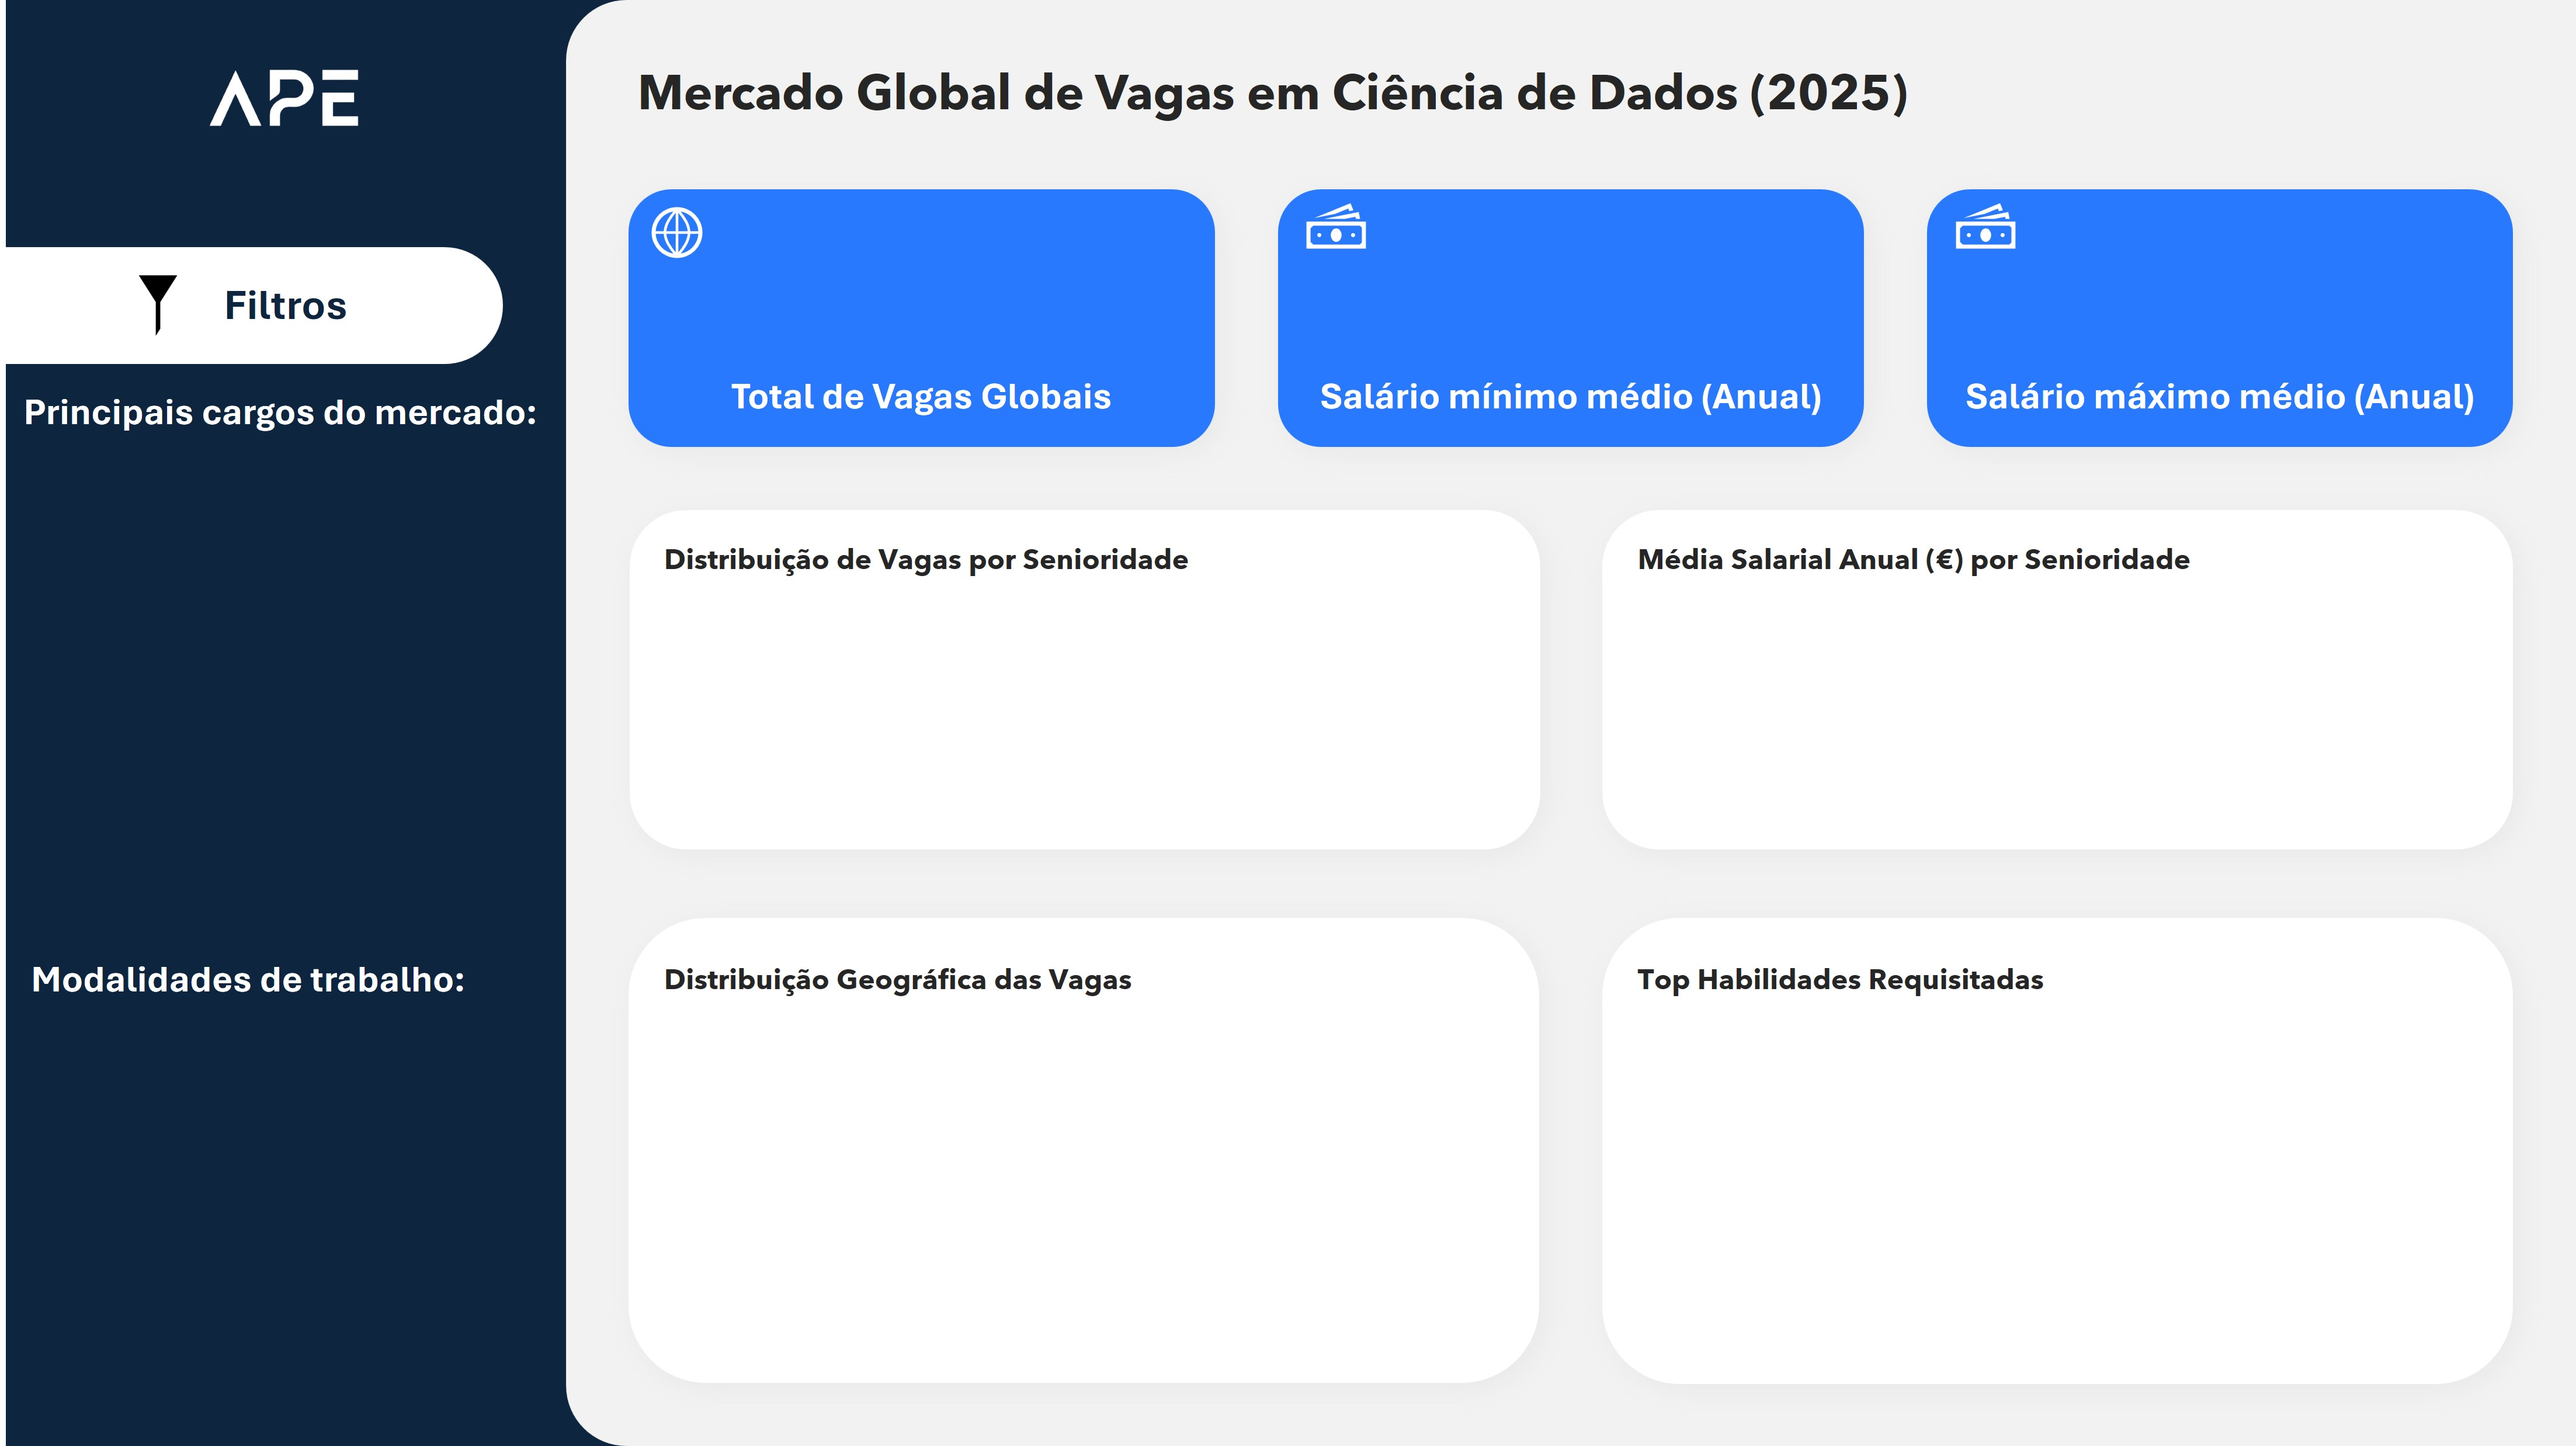

This screenshot's page, from the dashboard's own definition file:
{"tool":"powerbi","page":{"name":"Página 1","canvas":[1280,720],"ordinal":0},"visuals":[{"type":"areaChart","title":"Distribuição de Vagas por Senioridade","fields":{"Category":["dados_para_powerbi.seniority_level"],"Y":["CountNonNull(dados_para_powerbi.seniority_level)"]},"box":[323.3,275.6,436.7,153.3],"z":0},{"type":"clusteredBarChart","title":"Média Salarial Anual (€) por Senioridade","fields":{"Category":["dados_para_powerbi.seniority_level"],"Y":["Avg(dados_para_powerbi.salario_avg)"]},"box":[799,267,441,162],"z":1000},{"type":"map","title":"Distribuição Geográfica das Vagas","fields":{"Category":["dados_para_powerbi.pais","dados_para_powerbi.estado"],"Size":["CountNonNull(dados_para_powerbi.job_title)"]},"box":[330,500,417.1,170],"z":2000},{"type":"donutChart","title":"Top Habilidades Requisitadas","fields":{"Y":["dados_para_powerbi.Total PowerBI","dados_para_powerbi.Total Python","dados_para_powerbi.Total Java","dados_para_powerbi.Total Deep Learning","dados_para_powerbi.Total AWS","dados_para_powerbi.Total R","dados_para_powerbi.Total SQL","dados_para_powerbi.Total Tableau","dados_para_powerbi.Total Tensor Flow","dados_para_powerbi.Total Machine Learning","dados_para_powerbi.Total Git"]},"box":[837.1,480,392.9,211.4],"z":3000},{"type":"listSlicer","fields":{"Values":["dados_para_powerbi.job_title"]},"box":[11,221.6,257.4,251.9],"z":4000},{"type":"listSlicer","fields":{"Values":["dados_para_powerbi.status"]},"box":[49.5,499.6,181.7,200.9],"z":5000},{"type":"card","fields":{"Values":["Avg(dados_para_powerbi.salario_max)"]},"box":[985,106.7,231.7,78.3],"z":7000},{"type":"card","fields":{"Values":["Avg(dados_para_powerbi.salario_min)"]},"box":[640,106.7,281.7,78.3],"z":8000},{"type":"card","fields":{"Values":["dados_para_powerbi.Total de Vagas"]},"box":[385,106.7,141.7,78.3],"z":9000}]}

Visuals, with their boxes on the page's 1280x720 design canvas (x1, y1, x2, y2). These are canvas units, not pixel positions in the 2576x1446 screenshot, which may show the page scaled, cropped or inside an application window:
"Distribuição de Vagas por Senioridade" areaChart: <region>323, 276, 760, 429</region>
"Média Salarial Anual (€) por Senioridade" clusteredBarChart: <region>799, 267, 1240, 429</region>
"Distribuição Geográfica das Vagas" map: <region>330, 500, 747, 670</region>
"Top Habilidades Requisitadas" donutChart: <region>837, 480, 1230, 691</region>
listSlicer - dados_para_powerbi.job_title: <region>11, 222, 268, 474</region>
listSlicer - dados_para_powerbi.status: <region>50, 500, 231, 700</region>
card - Avg(dados_para_powerbi.salario_max): <region>985, 107, 1217, 185</region>
card - Avg(dados_para_powerbi.salario_min): <region>640, 107, 922, 185</region>
card - dados_para_powerbi.Total de Vagas: <region>385, 107, 527, 185</region>
